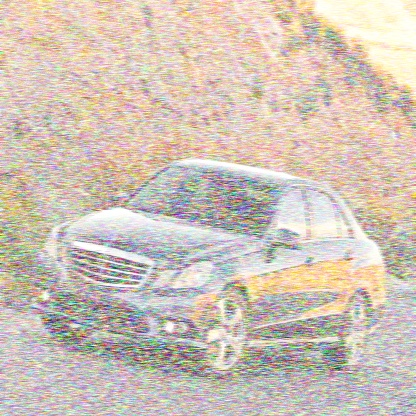Vehicle: (33, 158, 386, 378)
